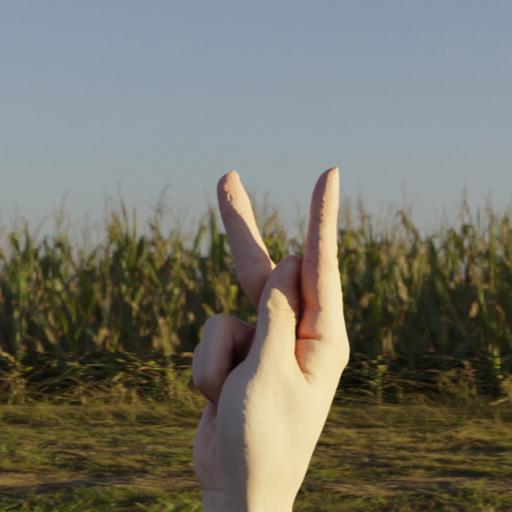K: (170, 160, 356, 512)
